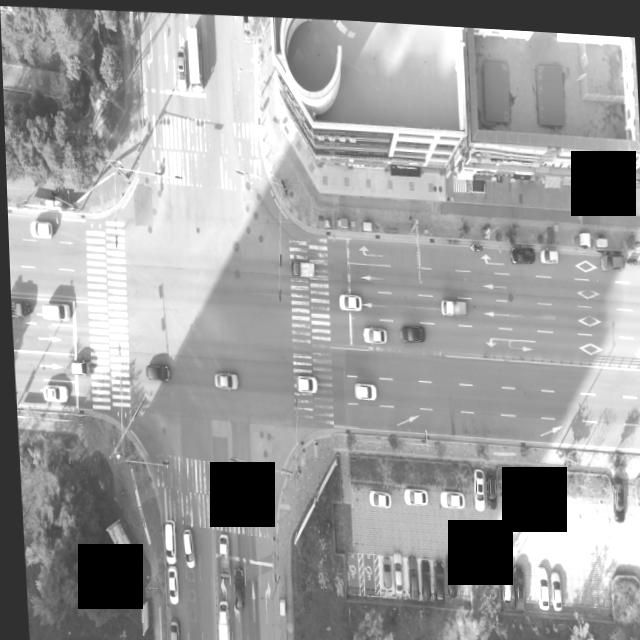car: (158, 518, 173, 562), (440, 547, 454, 593), (608, 468, 621, 512), (41, 303, 69, 323), (510, 559, 522, 604), (470, 463, 483, 504), (404, 552, 416, 595), (534, 561, 546, 603), (415, 554, 427, 596), (230, 566, 242, 608), (502, 489, 527, 509), (387, 547, 399, 588), (431, 555, 443, 596), (398, 322, 423, 341), (144, 363, 169, 382), (178, 530, 190, 569), (546, 566, 558, 605), (437, 484, 461, 503), (400, 482, 424, 501), (42, 385, 66, 404), (162, 564, 174, 602), (213, 369, 236, 388), (292, 372, 314, 391), (177, 49, 187, 90), (482, 466, 494, 500), (499, 560, 510, 597), (366, 488, 388, 506), (361, 323, 384, 340), (68, 359, 91, 376), (599, 247, 622, 264), (31, 220, 51, 239), (353, 378, 374, 396), (512, 241, 534, 258), (377, 550, 388, 584), (339, 290, 360, 307), (162, 618, 176, 640), (537, 242, 556, 257), (217, 532, 225, 556), (242, 13, 249, 38)
small_bus: (186, 24, 203, 92)
small_truck: (210, 599, 226, 640), (440, 294, 467, 313), (216, 529, 227, 574), (289, 257, 313, 276), (9, 298, 26, 318)
